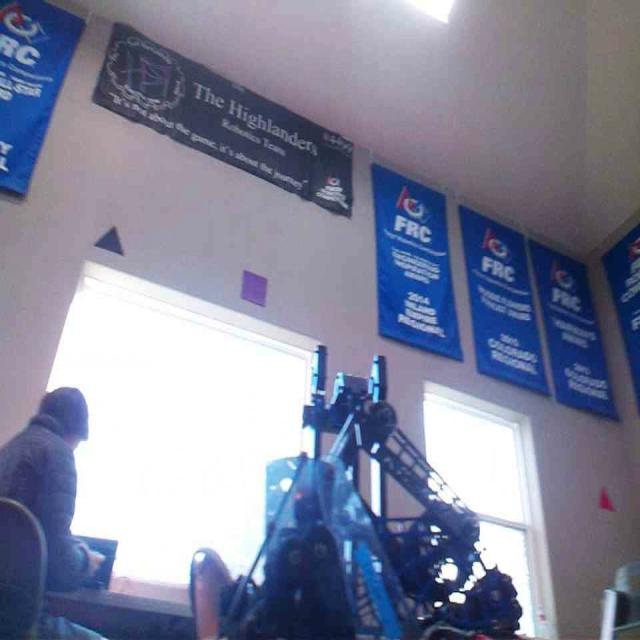square_purple: (239, 270, 267, 305)
triangle_black: (93, 225, 125, 256)
triangle_red: (598, 485, 614, 511)
